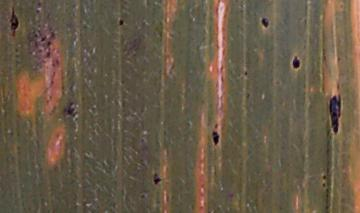tarspot: (326, 92, 344, 137), (4, 1, 22, 37), (148, 169, 164, 188), (209, 121, 220, 147), (289, 51, 302, 72), (258, 14, 272, 31), (115, 15, 126, 28), (319, 171, 329, 183), (241, 66, 250, 78), (321, 183, 328, 189)
